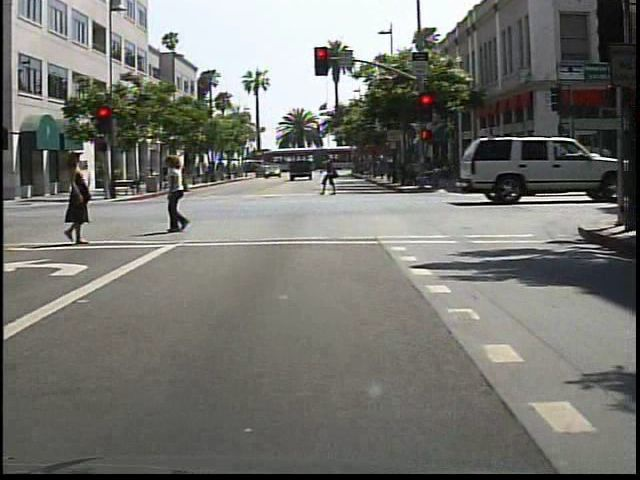person: (56, 147, 99, 249), (158, 155, 198, 235), (320, 150, 345, 198), (159, 160, 174, 186), (3, 150, 4, 252)
